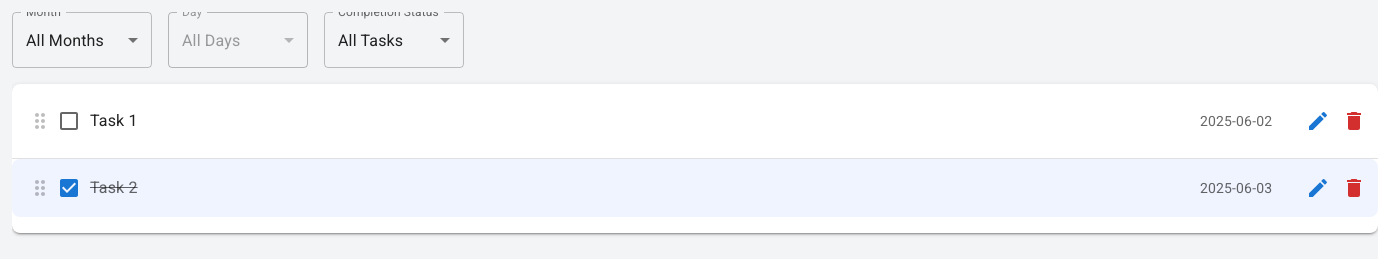
Test: edit mode: can cancel editing
Click the button named "edit" next to "2025-06-02": (1318, 121) [1298,101,1338,141]
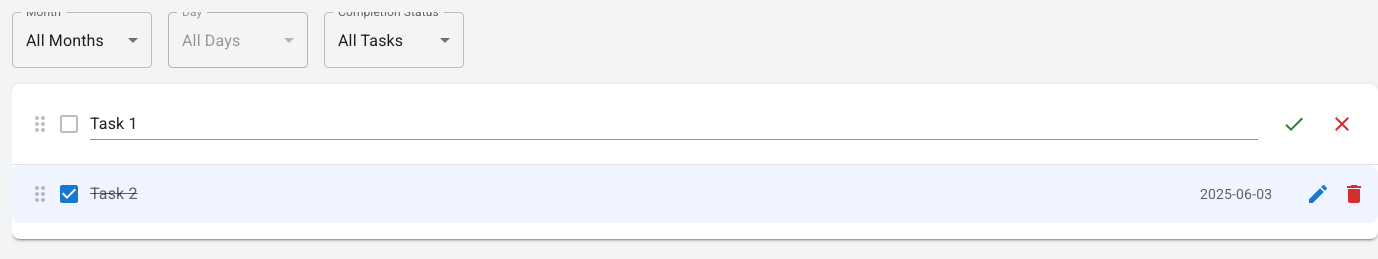
Click the button named "close": (1342, 124) [1322,104,1362,144]
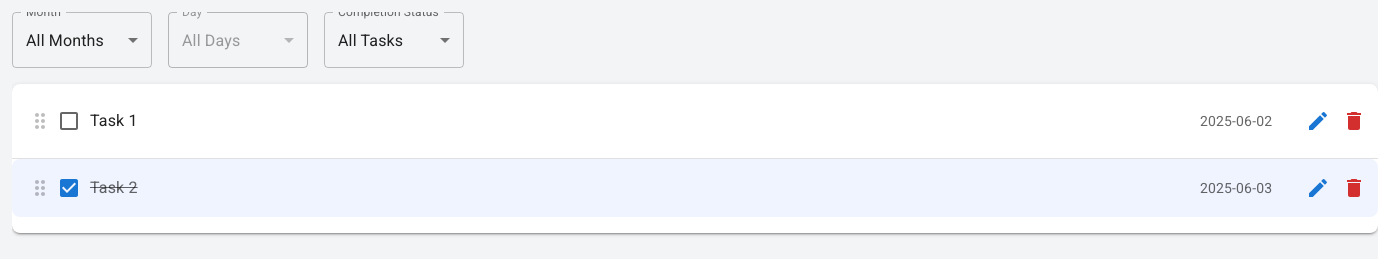
Check: the text "Task 1" is shown, box [90,111,138,130]
